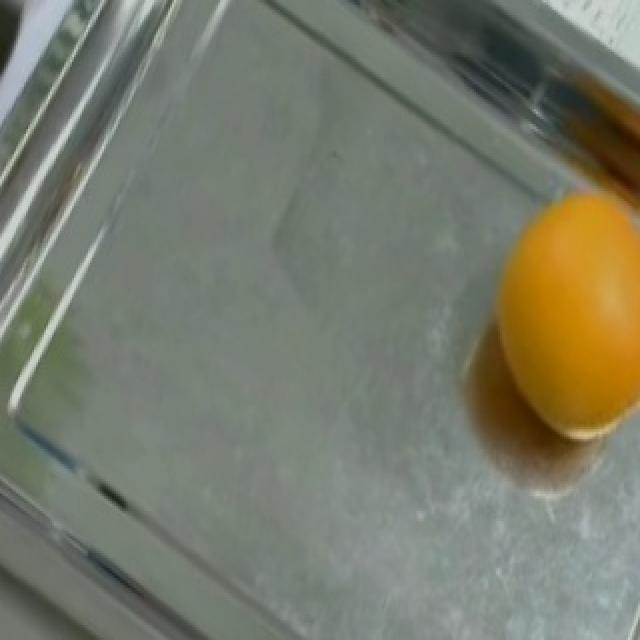Fruit: (464, 171, 640, 474), (0, 583, 136, 637)
